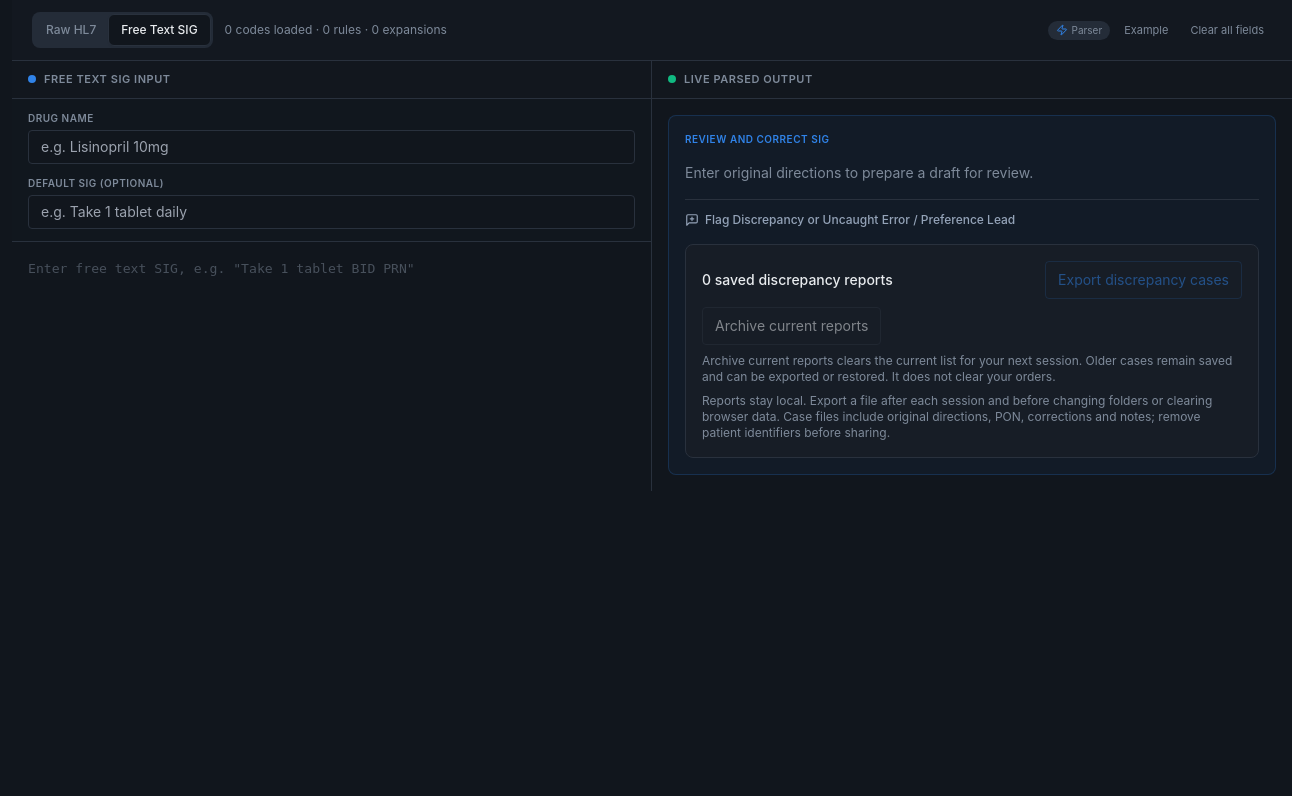
it: clears every Workbench entry and draft while retaining the saved discrepancy archive
The width and height of the screenshot is (1292, 796).
Expected: the text "0 saved discrepancy reports" is shown, [702,270,893,290]
Type "PANTOPRAZOLE PWD PACKET 40MG" into the field with placeholder "e.g. Lisinopril 10mg" at x=332, y=146, box [28,130,635,164]
Type "GIVE 1 PACKET PO" into the field with placeholder "e.g. Take 1 tablet daily" at x=332, y=212, box [28,194,635,228]
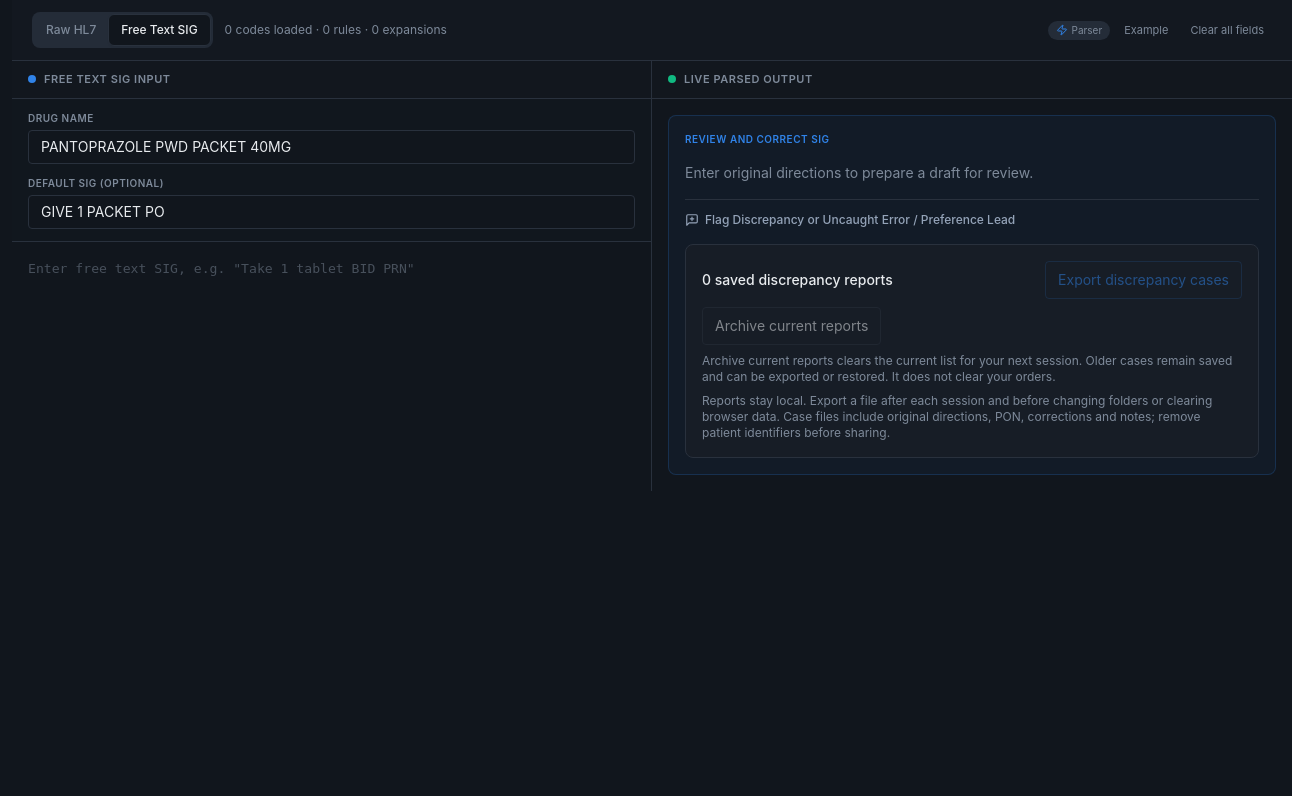
Type "Give 40 mg by mouth twice daily for GERD" into the text box with placeholder "Enter free text SIG, e.g. \"Take 1 tablet BID PRN\"" at x=332, y=366, box [12,242,651,490]
(page scrolled)
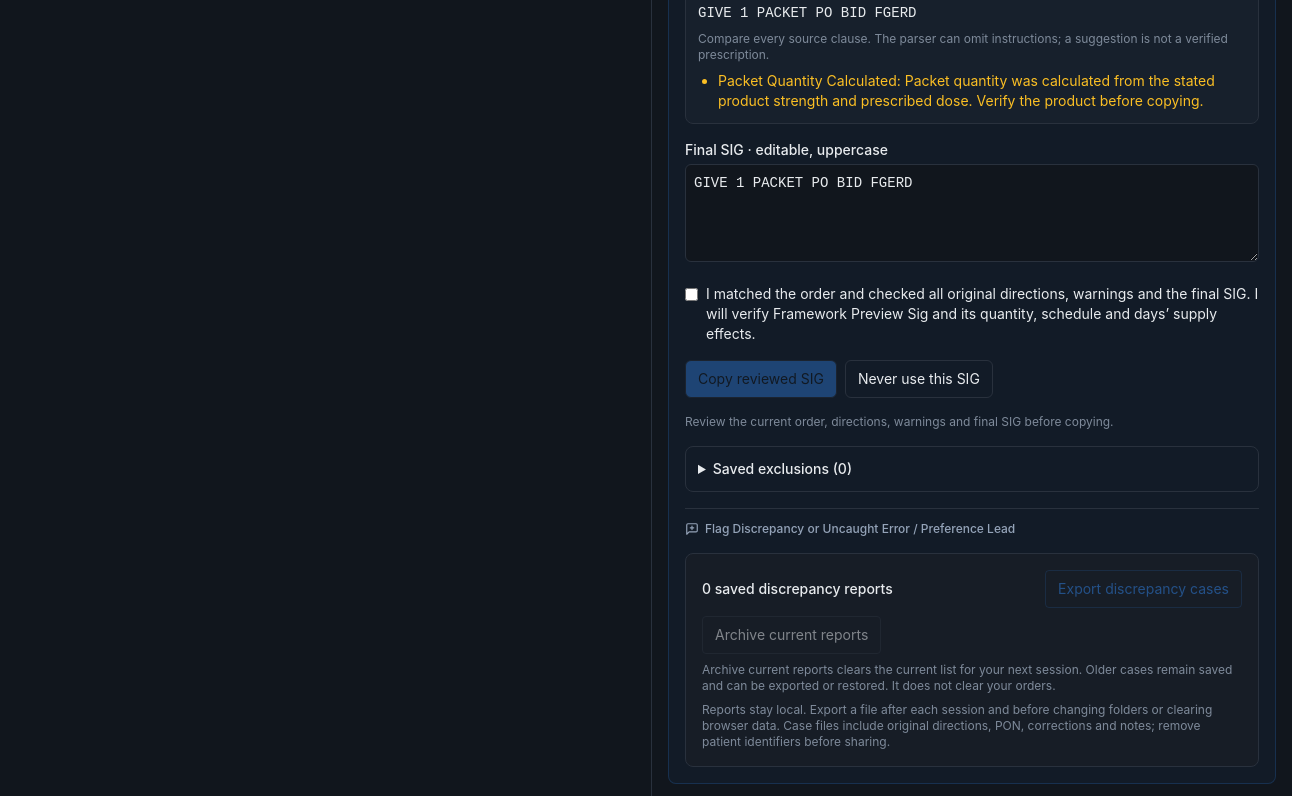
Now the text box labelled "Final SIG · editable, uppercase" is shown, box [685,164,1259,262]
Click the button "Flag Discrepancy or Uncaught Error / Preference Lead" at x=850, y=528, box [685,520,1015,536]
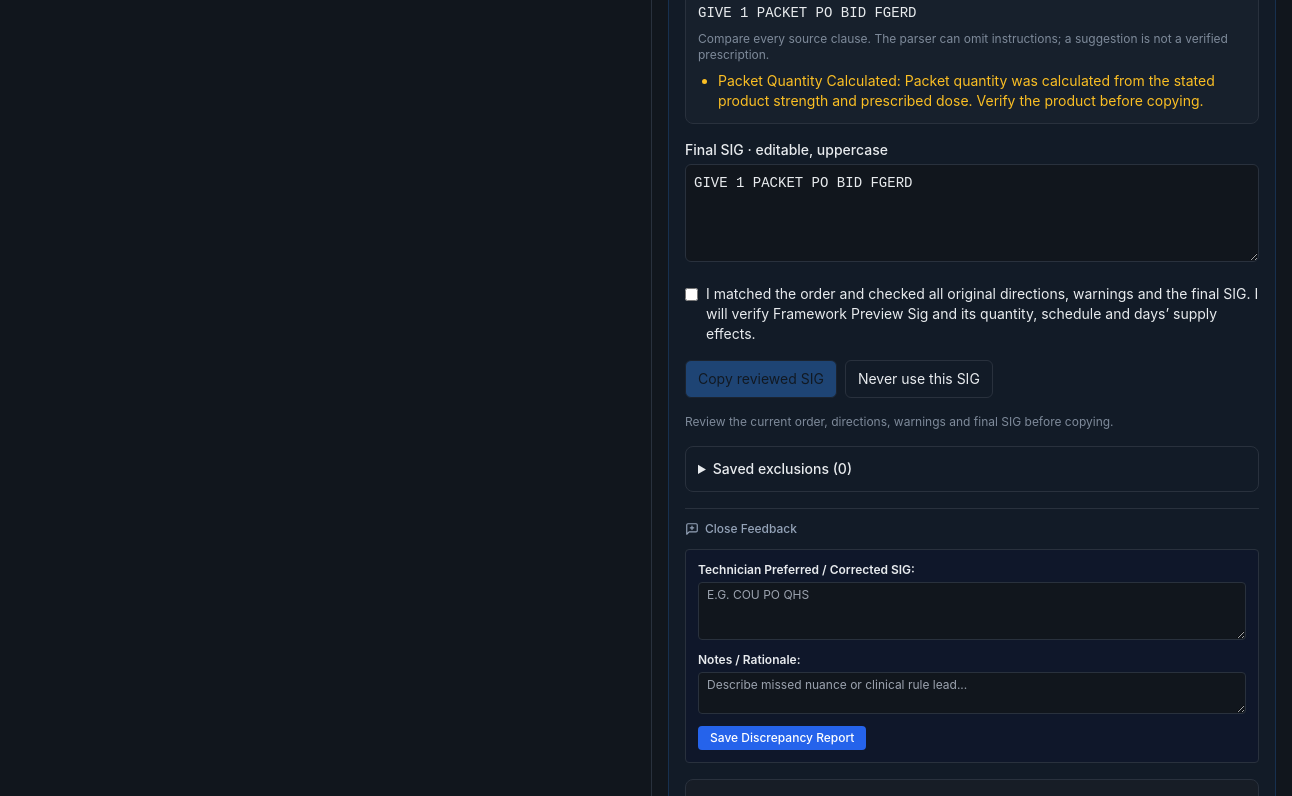
Type "Synthetic clear-fields regression." into the text box labelled "Notes / Rationale:" at x=972, y=692, box [698,672,1246,714]
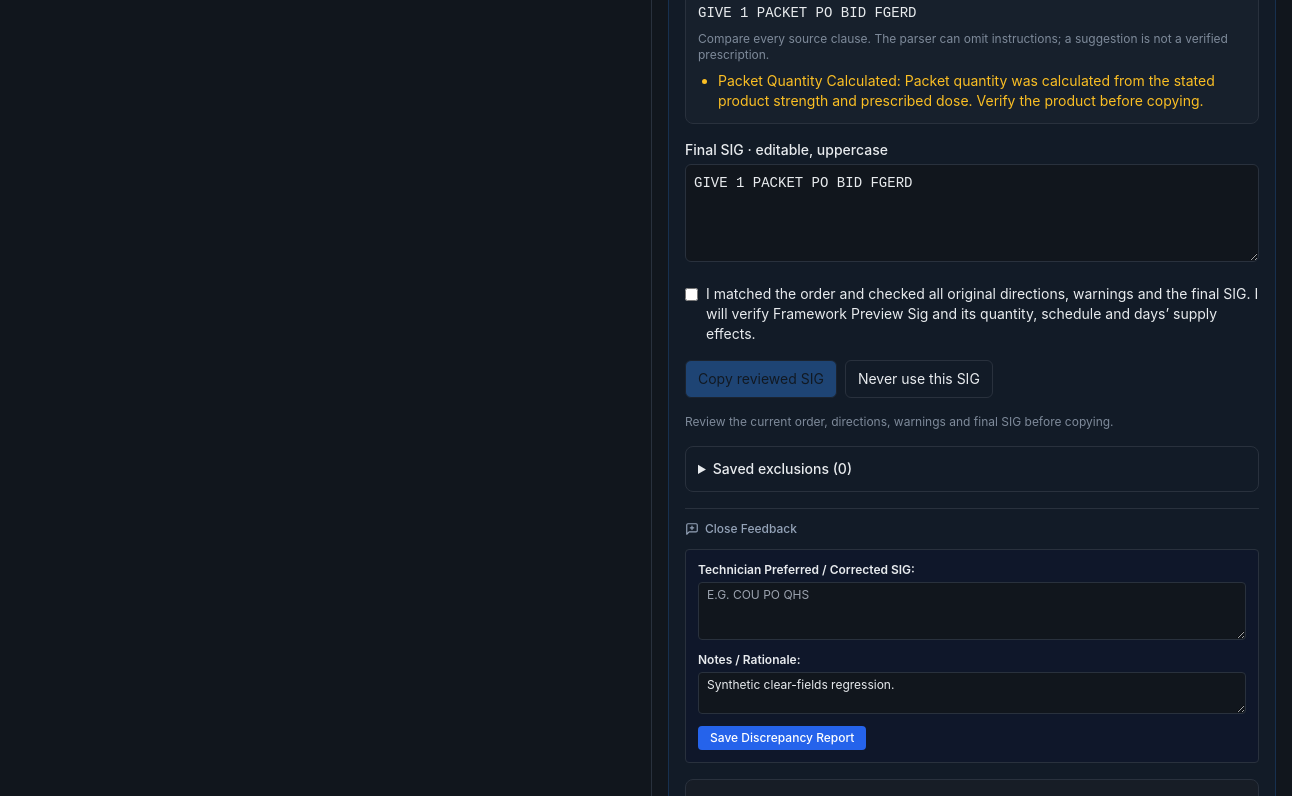
Click the button "Save Discrepancy Report" at x=782, y=738, box [698,726,866,750]
(page scrolled)
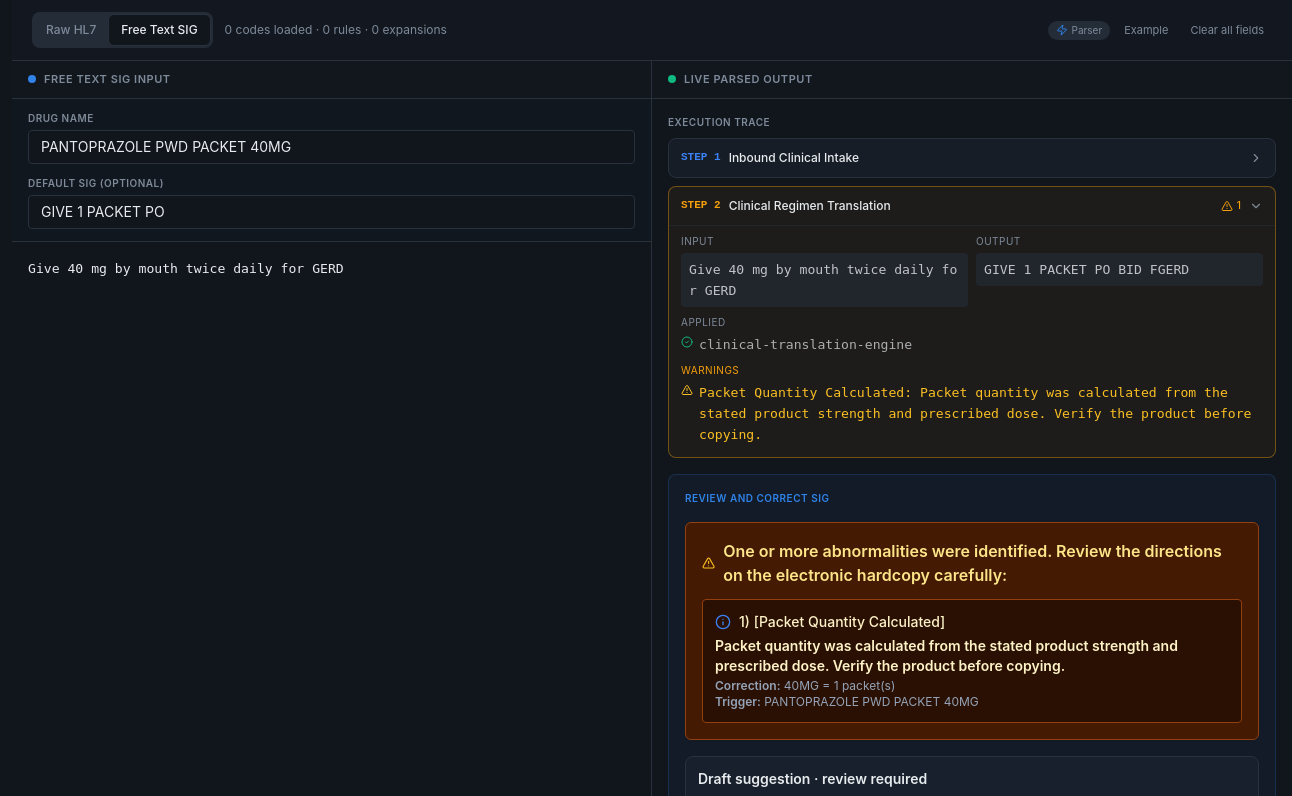
Click the button "Clear all fields" at x=1227, y=30, box [1182,20,1272,40]
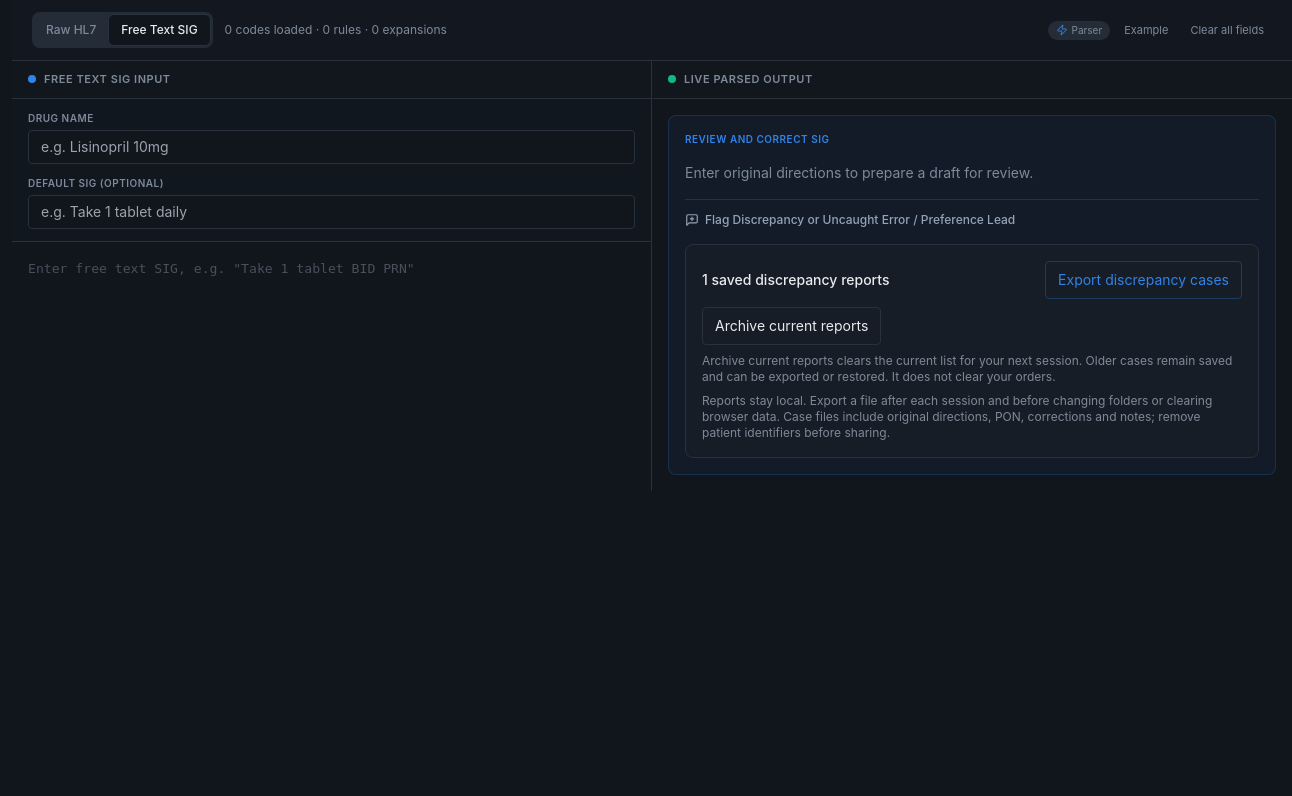
Now the field with placeholder "e.g. Lisinopril 10mg" is empty, box [28,130,635,164]
Now the field with placeholder "e.g. Take 1 tablet daily" is empty, box [28,194,635,228]
Now the text box with placeholder "Enter free text SIG, e.g. \"Take 1 tablet BID PRN\"" is empty, box [12,242,651,490]
